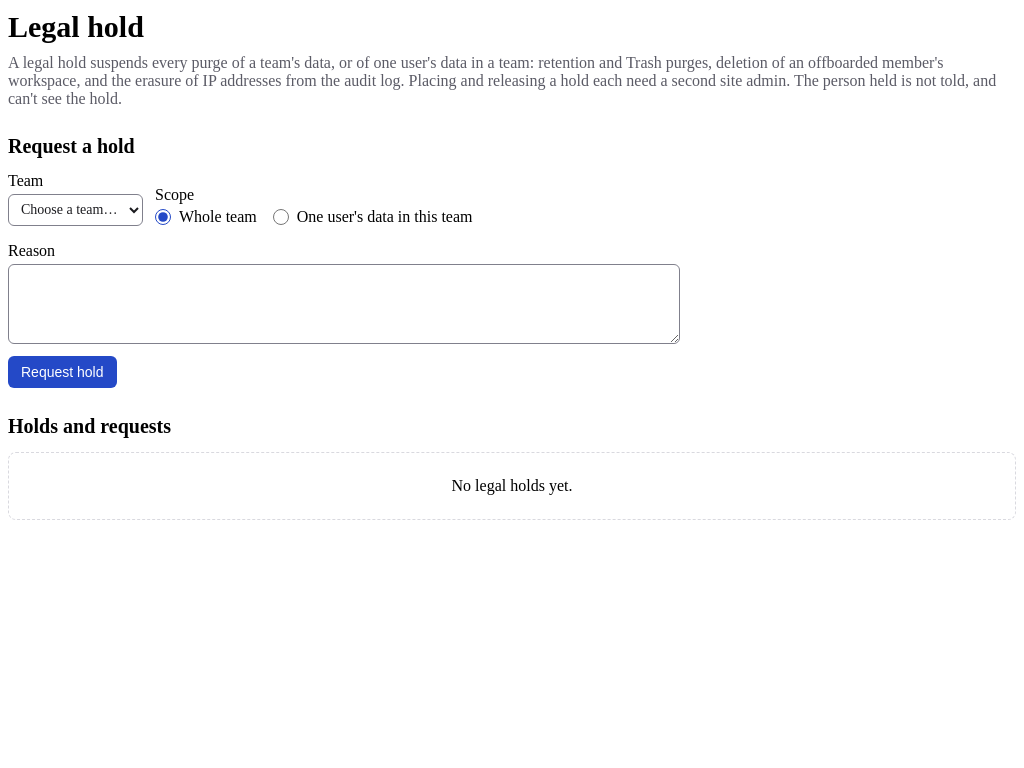
Test case: site legal hold page › requests a hold on one user's data with a reason
Select "Finance" in the dropdown labelled "Team" at x=76, y=210, box 8,194 -> 143,226
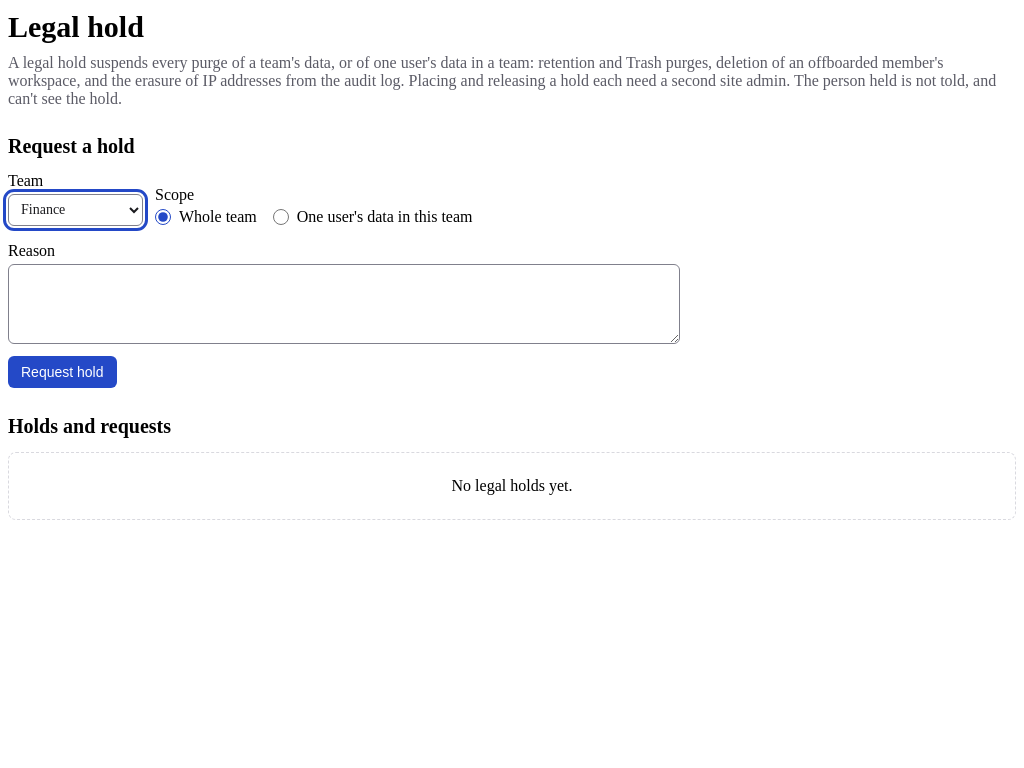
Click the radio button labelled "One user's data in this team".
click(281, 216)  # box 273,208 -> 289,224
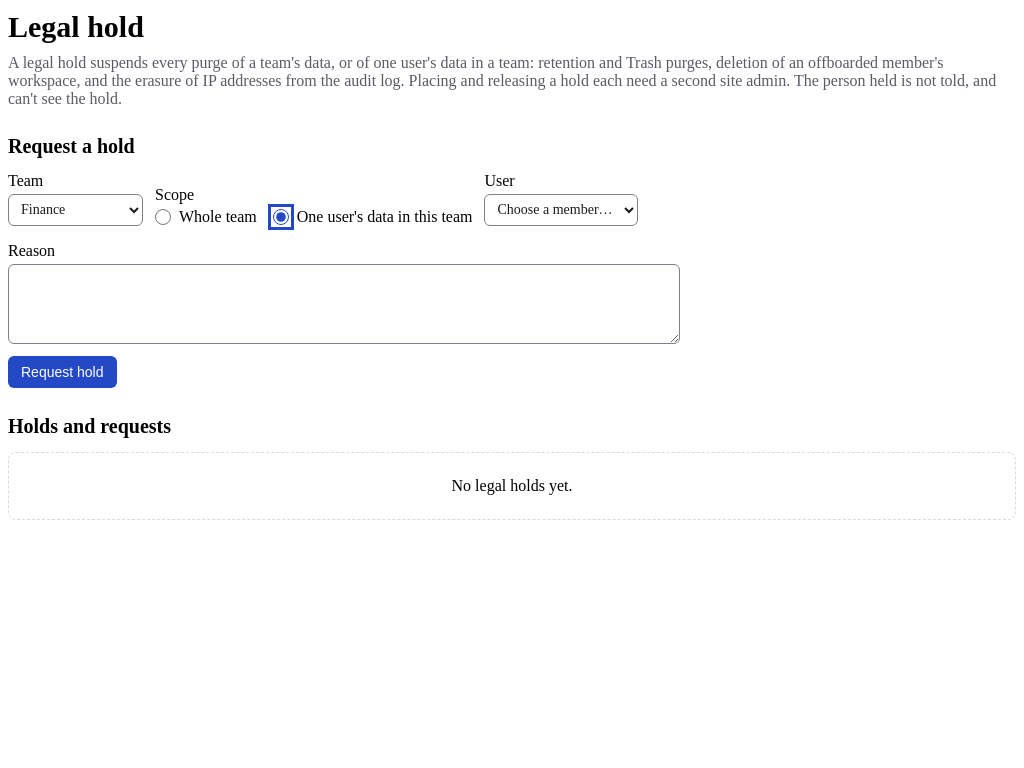
Select "Bob (b@x.io)" in the dropdown labelled "User" at x=562, y=210, box 484,194 -> 638,226
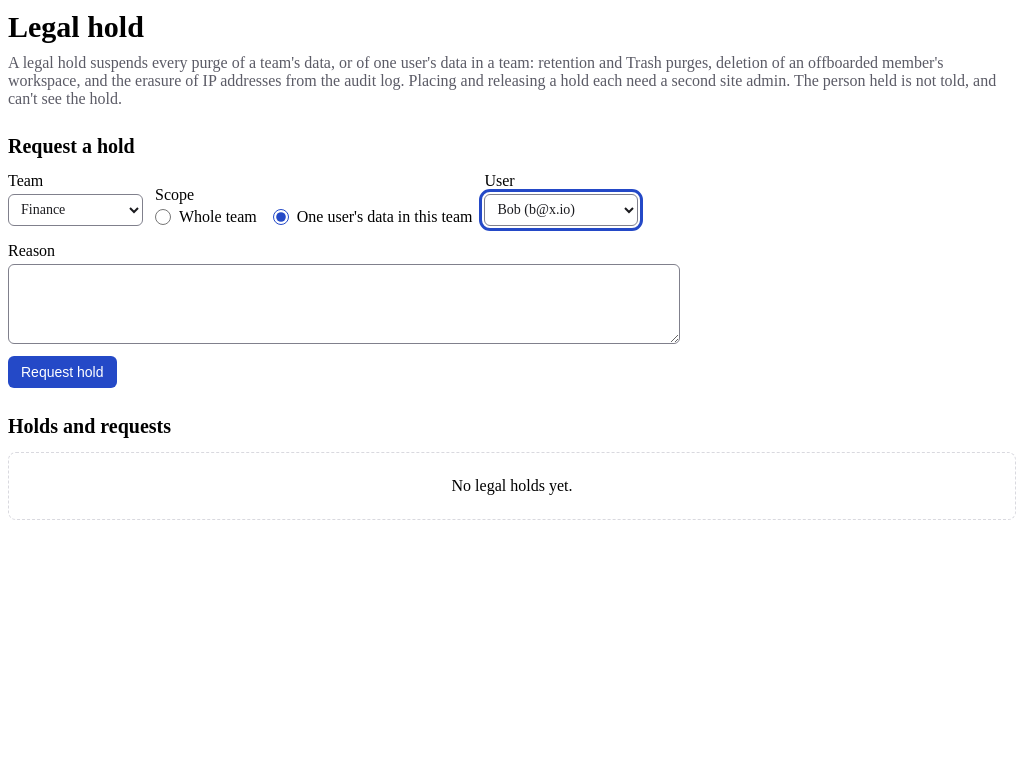
Type "Litigation matter 7" into the text box labelled "Reason".
click(344, 304); type("Litigation matter 7")  # box 8,264 -> 680,344
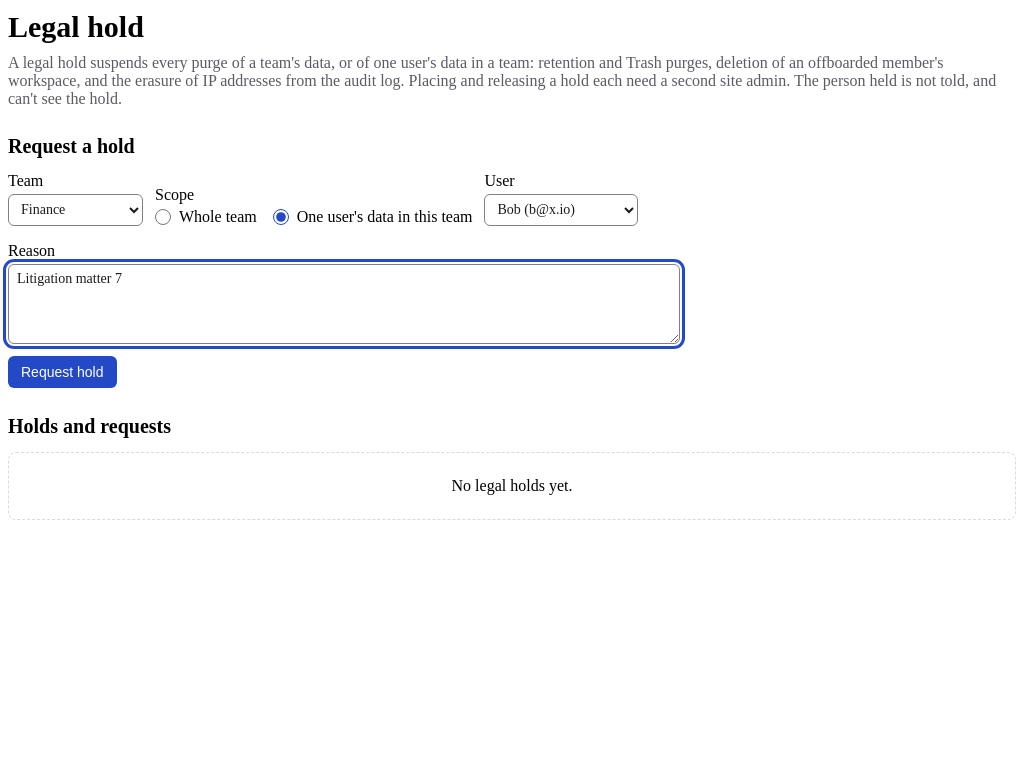
Click the button "Request hold".
click(62, 372)  # box 8,356 -> 116,388
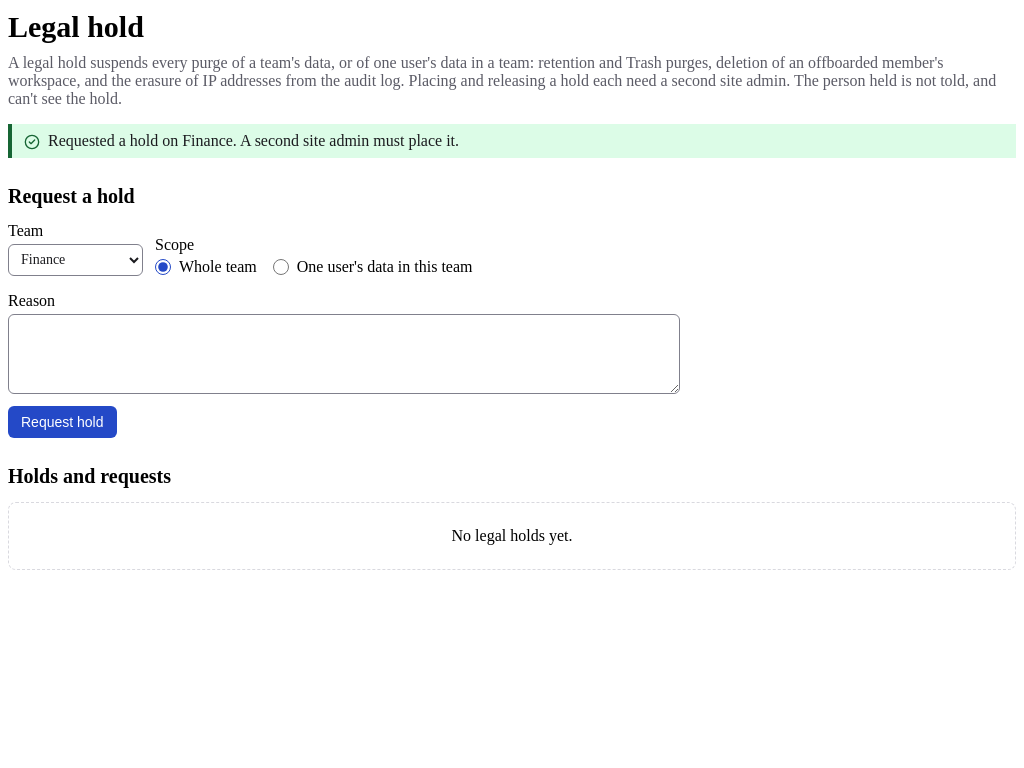
Now the text "A second site admin must place it" is shown, box 48,132 -> 459,148
